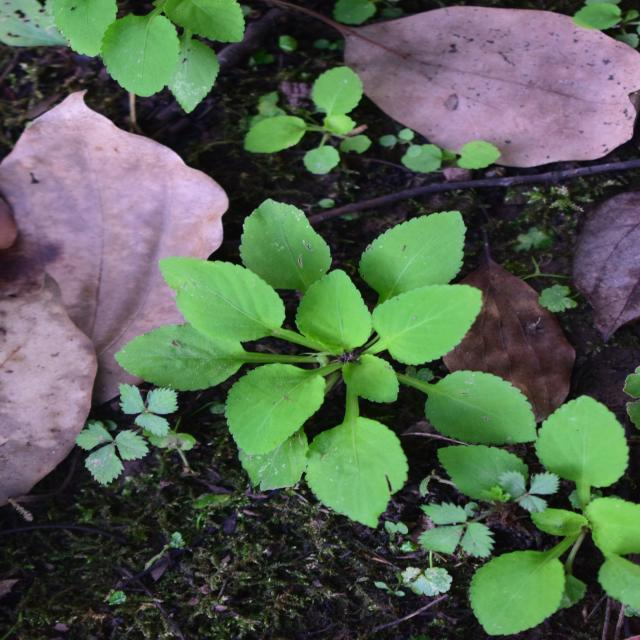Viola: (142, 145, 444, 545)
